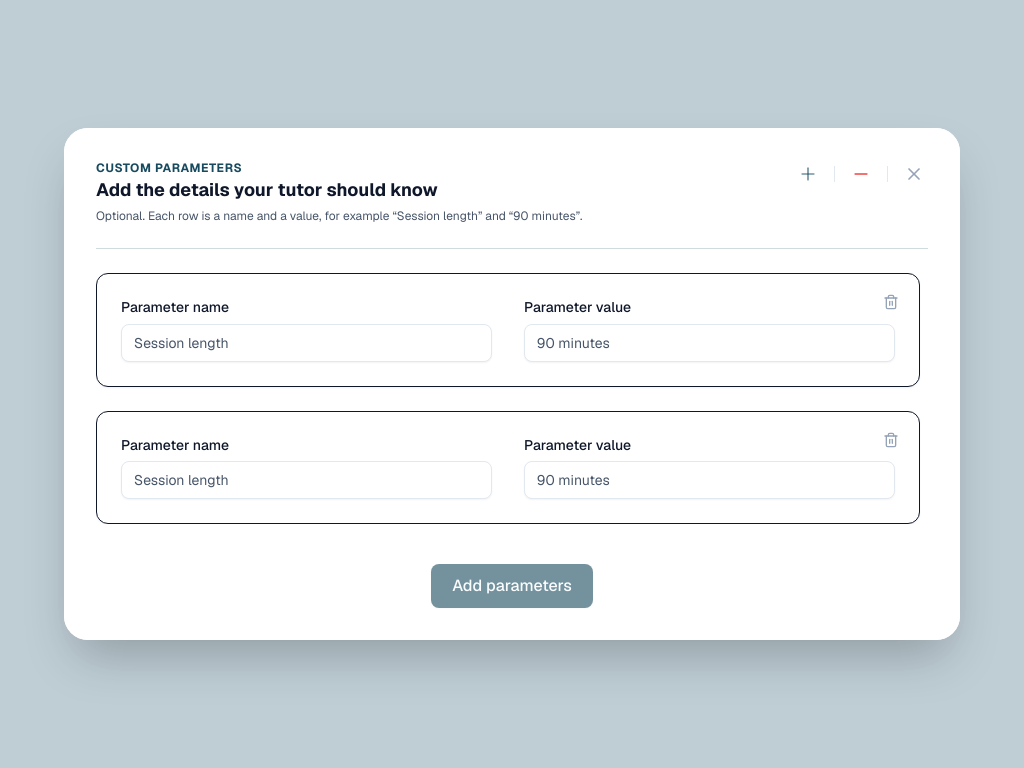
CustomParametersModal › allows removing a lone row, falling back to the empty state
Click the 1st button named "Remove parameter".
click(891, 302)  # box left=879, top=290, right=903, bottom=314
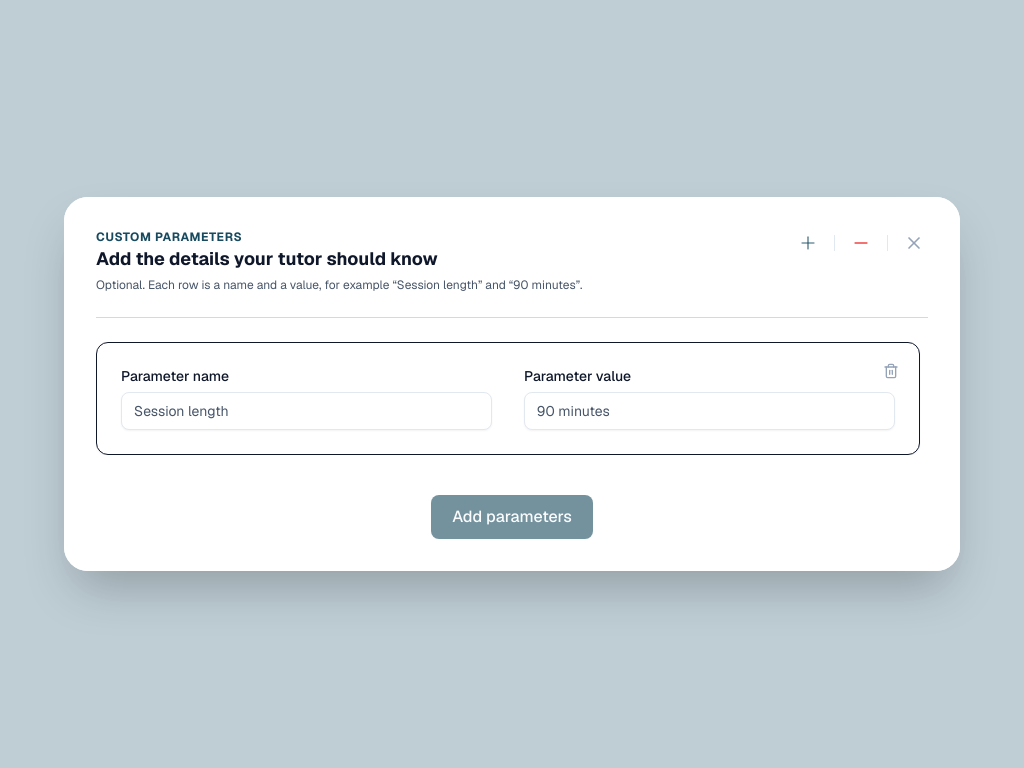
expect the button named "Remove parameter" is enabled: met, box left=879, top=359, right=903, bottom=383
expect the number of fields labelled "Parameter name" is 1: met, box left=121, top=392, right=492, bottom=430
